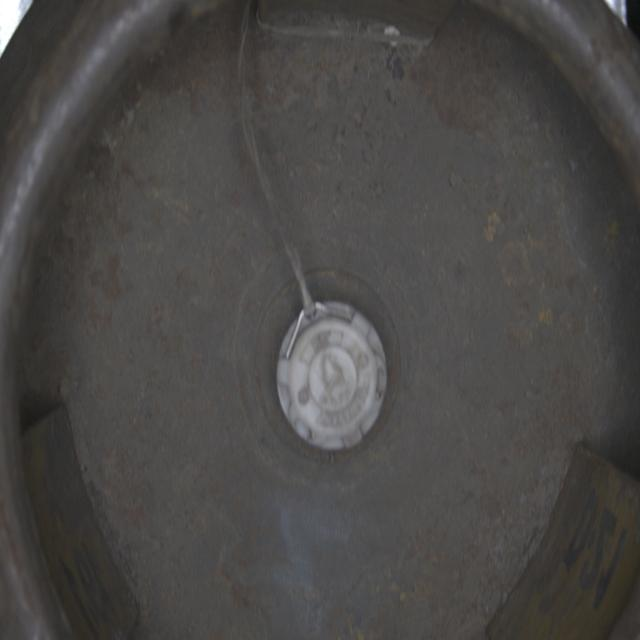Cap: (275, 296, 392, 455)
